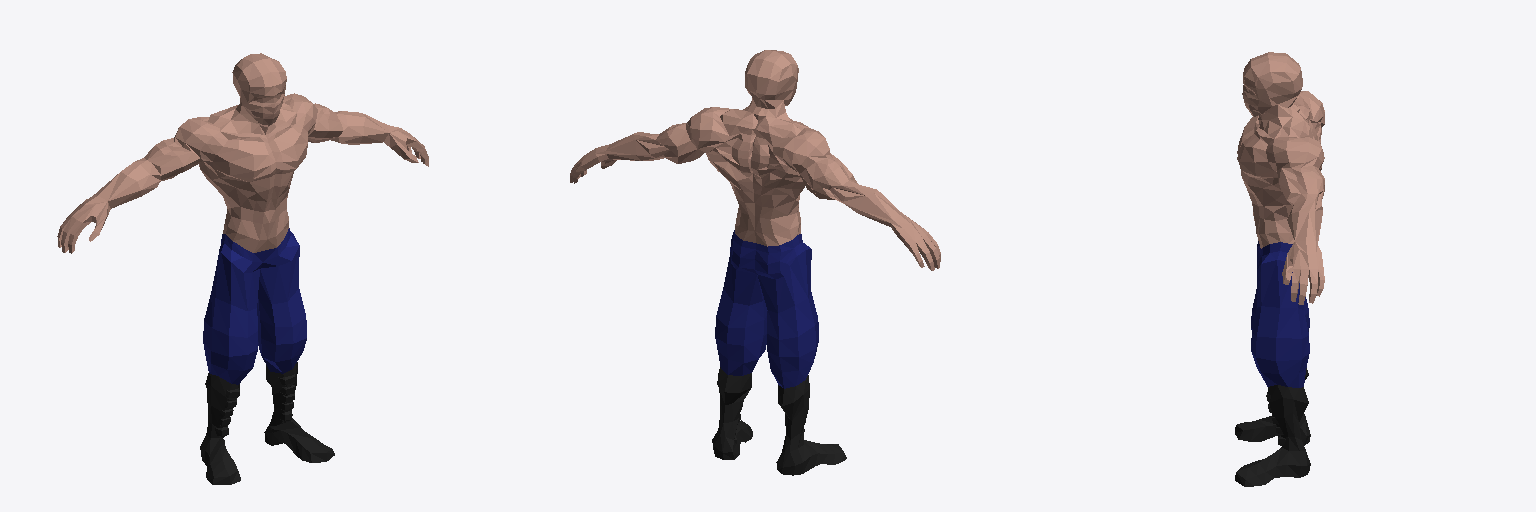
Rendered from player.obj.
3 views of the same model, side by side, from view 1: azimuth 30°, elevation 25°; view 2: azimuth 150°, elevation 25°; view 3: azimuth 270°, elevation 25° (orthographic).
Parts seen in each view (by area): view 1: char.001_Plane.000; view 2: char.001_Plane.000; view 3: char.001_Plane.000.
Boxes of the visible parts, x1,y1,x2,y2 form: char.001_Plane.000: [57, 53, 428, 484]; char.001_Plane.000: [570, 50, 940, 475]; char.001_Plane.000: [1235, 52, 1324, 486].
Bounding box in the file's own units: 1.77 × 1.87 × 0.3837.